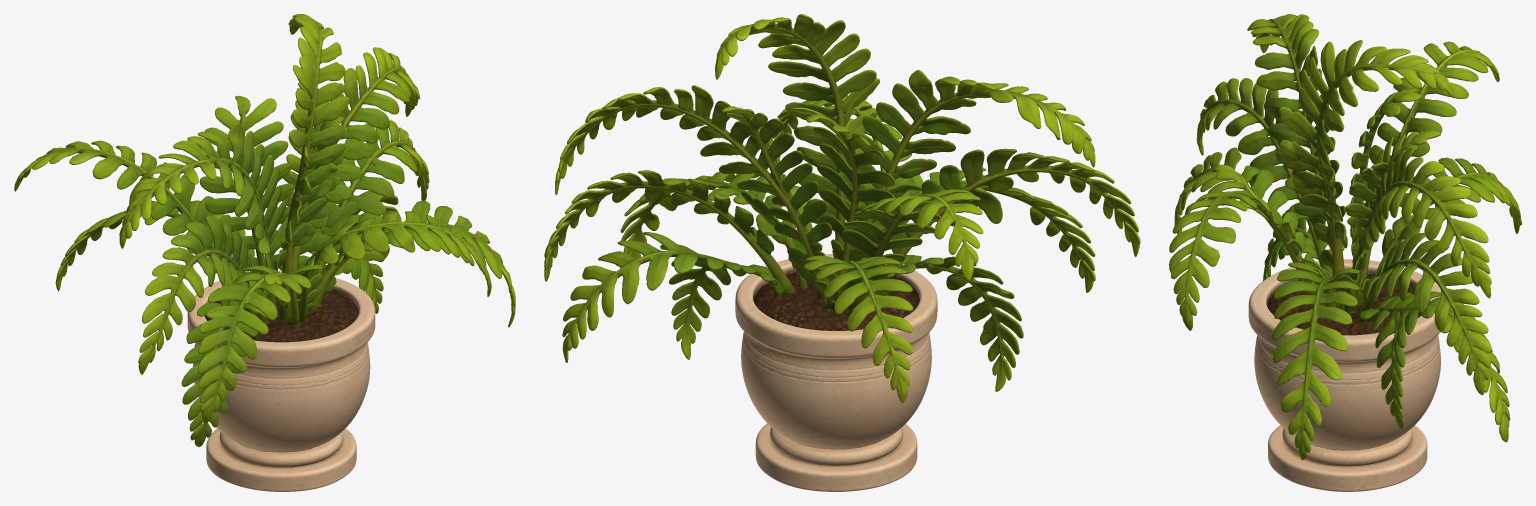
The model's file is potted_fern.glb.
3 views of the same model, side by side, from view 1: azimuth 30°, elevation 25°; view 2: azimuth 150°, elevation 25°; view 3: azimuth 270°, elevation 25° (orthographic). The views are drawn at different scales.
Visible parts, largest first — view 1: tripo_node_84ed5585-b50b-4e7b-aa9a-0f01c49bd404; view 2: tripo_node_84ed5585-b50b-4e7b-aa9a-0f01c49bd404; view 3: tripo_node_84ed5585-b50b-4e7b-aa9a-0f01c49bd404.
Part boxes in pixels (x1=…): tripo_node_84ed5585-b50b-4e7b-aa9a-0f01c49bd404: x1=14, y1=14, x2=515, y2=491; tripo_node_84ed5585-b50b-4e7b-aa9a-0f01c49bd404: x1=544, y1=14, x2=1140, y2=491; tripo_node_84ed5585-b50b-4e7b-aa9a-0f01c49bd404: x1=1169, y1=14, x2=1521, y2=491.
Bounding box in the file's own units: 0.9786 × 0.9032 × 0.6667.
1 material, 1 textured.
